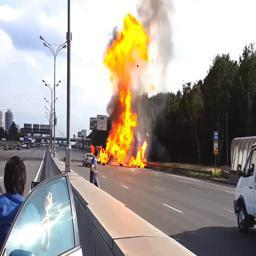fire: (98, 13, 149, 169)
